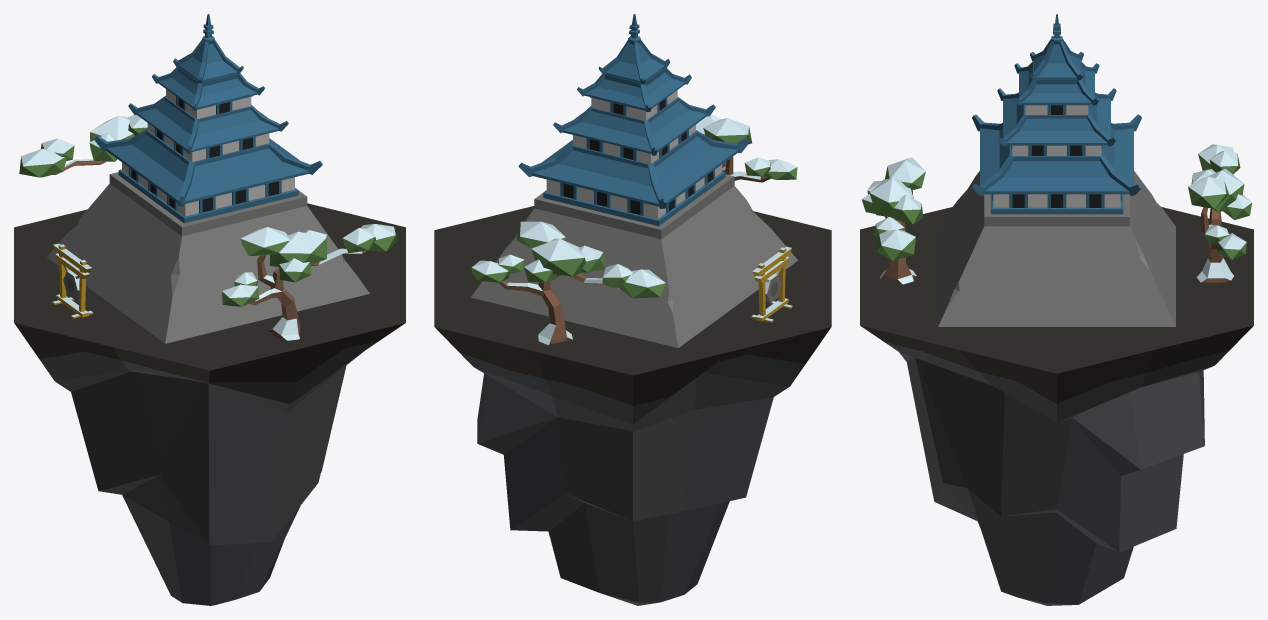
The model's file is temple.glb.
3 views of the same model, side by side, from view 1: azimuth 30°, elevation 25°; view 2: azimuth 150°, elevation 25°; view 3: azimuth 270°, elevation 25° (orthographic).
Parts seen in each view (by area): view 1: SM_Tile_Hex_FloatingIsland_01.002, SM_Bld_Samurai_Temple_02, SM_Env_Samurai_Tree_01_Snow, SM_Env_Samurai_Tree_01_Snow.001, SM_Prop_Samurai_Gong_01_Snow; view 2: SM_Tile_Hex_FloatingIsland_01.002, SM_Bld_Samurai_Temple_02, SM_Env_Samurai_Tree_01_Snow.001, SM_Env_Samurai_Tree_01_Snow, SM_Prop_Samurai_Gong_01_Snow; view 3: SM_Tile_Hex_FloatingIsland_01.002, SM_Bld_Samurai_Temple_02, SM_Env_Samurai_Tree_01_Snow.001, SM_Env_Samurai_Tree_01_Snow.
Boxes of the visible parts, <box> form: SM_Tile_Hex_FloatingIsland_01.002: <box>14,203,405,605</box>; SM_Bld_Samurai_Temple_02: <box>47,14,369,343</box>; SM_Env_Samurai_Tree_01_Snow: <box>222,224,397,340</box>; SM_Env_Samurai_Tree_01_Snow.001: <box>19,115,147,177</box>; SM_Prop_Samurai_Gong_01_Snow: <box>52,243,93,318</box>; SM_Tile_Hex_FloatingIsland_01.002: <box>434,206,831,605</box>; SM_Bld_Samurai_Temple_02: <box>471,14,797,347</box>; SM_Env_Samurai_Tree_01_Snow.001: <box>471,221,665,344</box>; SM_Env_Samurai_Tree_01_Snow: <box>696,114,797,182</box>; SM_Prop_Samurai_Gong_01_Snow: <box>751,246,792,322</box>; SM_Tile_Hex_FloatingIsland_01.002: <box>860,207,1253,605</box>; SM_Bld_Samurai_Temple_02: <box>938,14,1175,326</box>; SM_Env_Samurai_Tree_01_Snow.001: <box>1188,144,1252,282</box>; SM_Env_Samurai_Tree_01_Snow: <box>862,157,925,284</box>.
Bounding box in the file's own units: 5.77 × 8.28 × 5.
4 materials, 4 textured.
